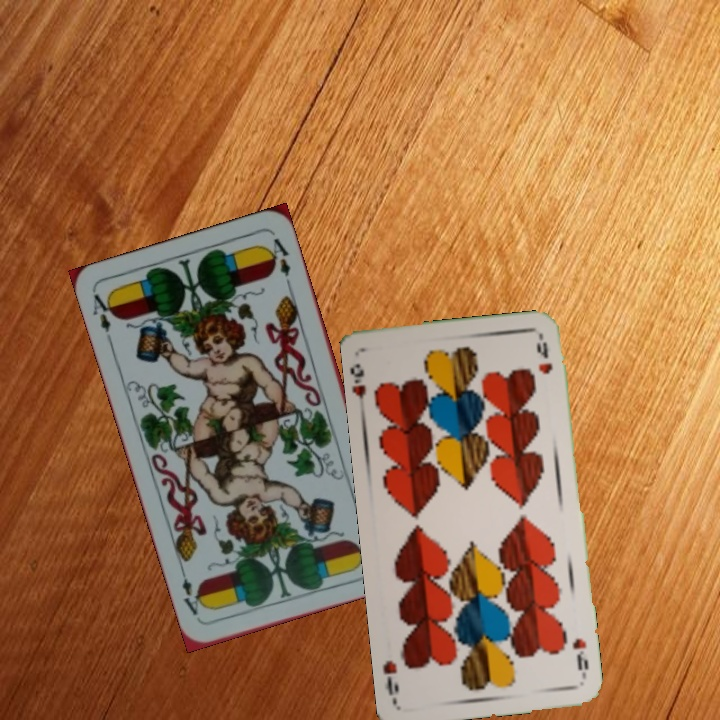EA: (88, 289, 118, 346)
H9: (568, 634, 591, 673), (349, 360, 369, 401)
